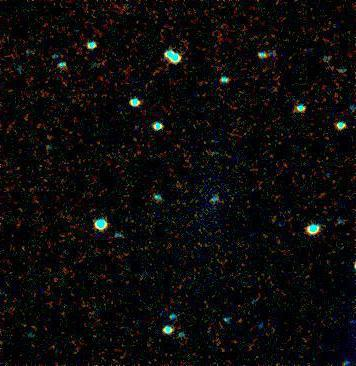star: (225, 302, 255, 332)
